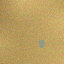person: (38, 39, 44, 48)
